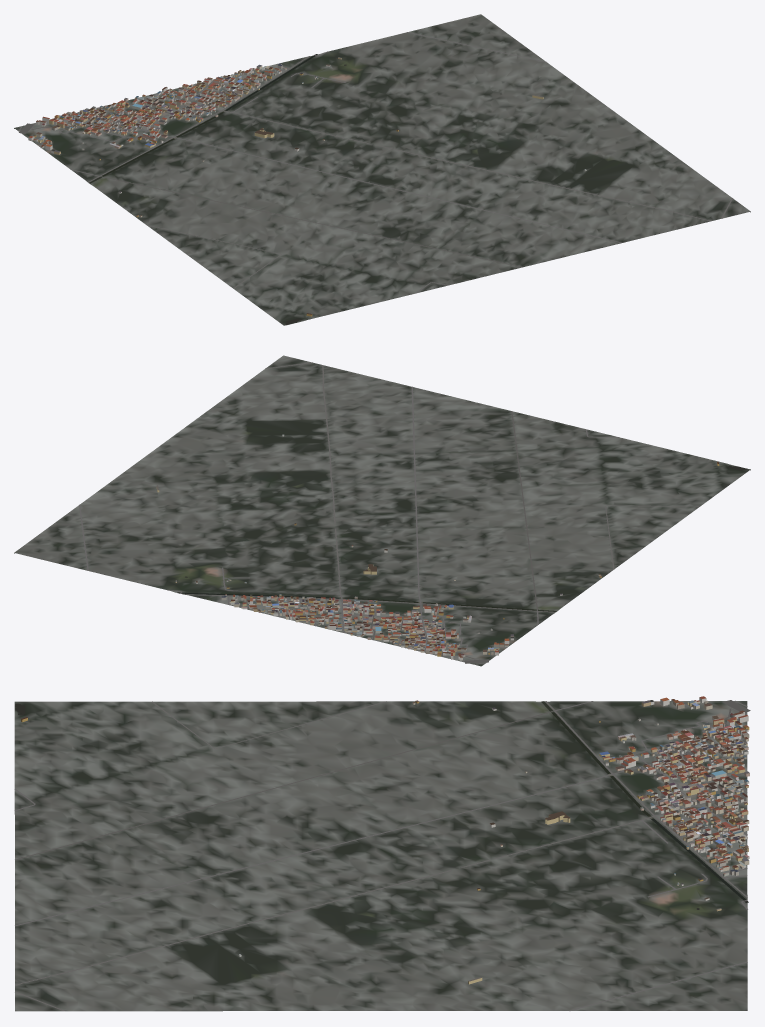
The picture shows the model from 3 angles, top to bottom: view 1: azimuth 30°, elevation 25°; view 2: azimuth 150°, elevation 25°; view 3: azimuth 270°, elevation 25°; orthographic projection. The views are drawn at different scales.
Visible parts, largest first — view 1: ground, buildings, roads, water; view 2: ground, buildings, roads, water; view 3: ground, buildings, roads, water.
Part boxes in pixels (x1,y1,x2,y2): ground: [14, 14, 750, 325]; buildings: [28, 57, 586, 316]; roads: [18, 32, 732, 293]; water: [89, 54, 346, 324]; ground: [14, 355, 750, 666]; buildings: [156, 434, 719, 660]; roads: [79, 362, 700, 664]; water: [177, 465, 747, 611]; ground: [14, 701, 747, 1011]; buildings: [21, 696, 749, 984]; roads: [14, 700, 750, 1011]; water: [15, 701, 748, 909].
Bounding box in the file's own units: 1409 × 15.87 × 1410.
